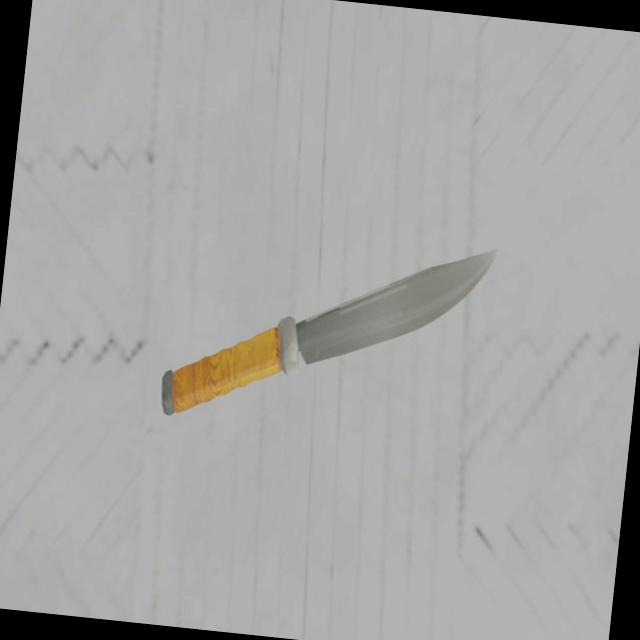knife: (158, 308, 302, 422)
